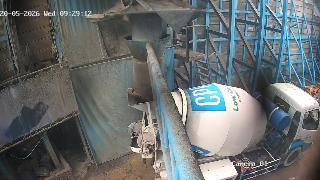cement_mixer_truck: (127, 82, 320, 180)
swing_chute: (124, 33, 170, 98)
